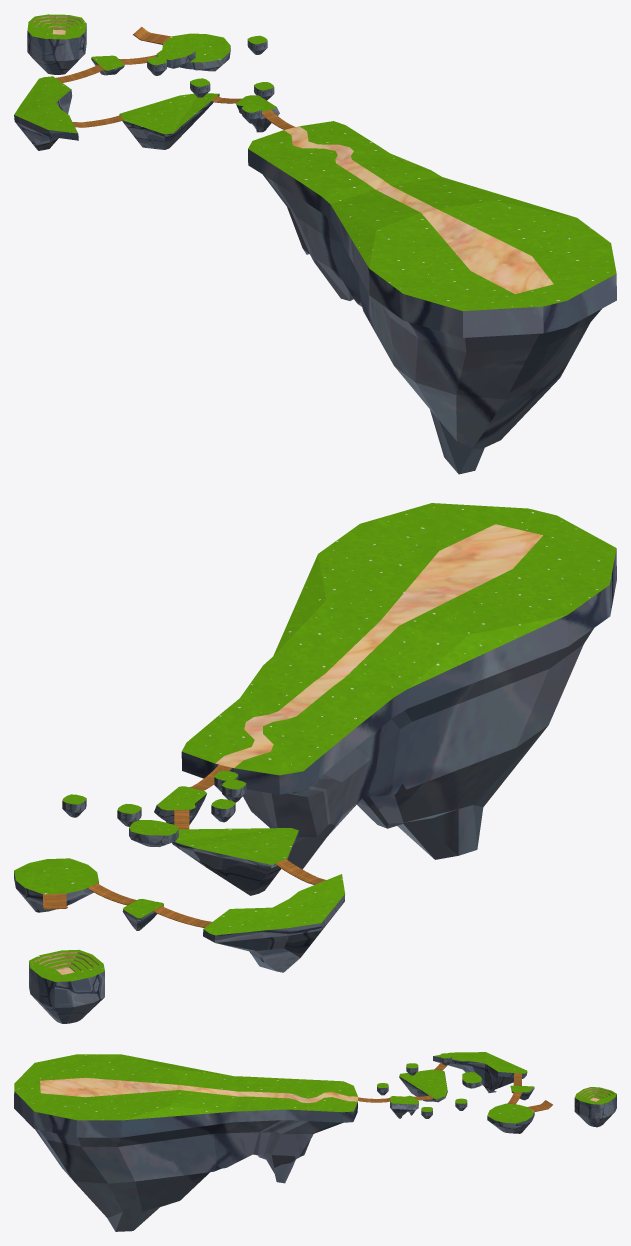
The model's file is Nivel 1.fbx.
The picture shows the model from 3 angles, top to bottom: view 1: azimuth 30°, elevation 25°; view 2: azimuth 150°, elevation 25°; view 3: azimuth 270°, elevation 25°; orthographic projection. The views are drawn at different scales.
Visible parts, largest first — view 1: Grid, Grid.004, Grid.003, Cube.006, Grid.001, Cube.002, Grid.002; view 2: Grid, Grid.004, Grid.003, Cube.006, Grid.001, Grid.002, Cube.002, Grid.005; view 3: Grid, Grid.004, Cube.006, Grid.001, Grid.003, Grid.002, Cube.002.
Boxes of the visible parts, x1,y1,x2,y2 form: Grid: (248, 121, 616, 474); Grid.004: (14, 76, 78, 150); Grid.003: (119, 93, 219, 149); Cube.006: (27, 14, 86, 74); Grid.001: (133, 27, 230, 71); Cube.002: (156, 43, 195, 68); Grid.002: (235, 95, 279, 132); Grid: (181, 503, 616, 869); Grid.004: (203, 874, 344, 972); Grid.003: (172, 828, 298, 895); Cube.006: (29, 949, 104, 1023); Grid.001: (14, 858, 98, 912); Grid.002: (154, 786, 206, 824); Cube.002: (129, 820, 178, 846); Grid.005: (122, 899, 163, 930); Grid: (14, 1054, 357, 1231); Grid.004: (433, 1052, 527, 1092); Cube.006: (574, 1087, 616, 1127); Grid.001: (487, 1100, 552, 1133); Grid.003: (399, 1069, 447, 1102); Grid.002: (390, 1095, 418, 1118); Cube.002: (462, 1072, 481, 1088).
Bounding box in the file's own units: 3602 × 2911 × 10216.
Materials: 4 (4 with a texture image).
